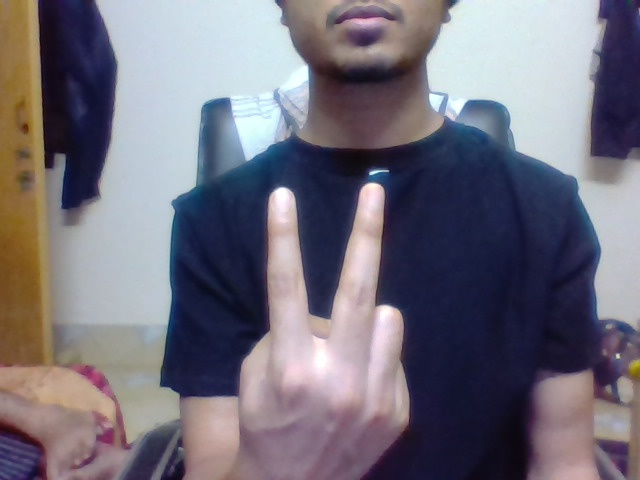V: (263, 178, 387, 360)
